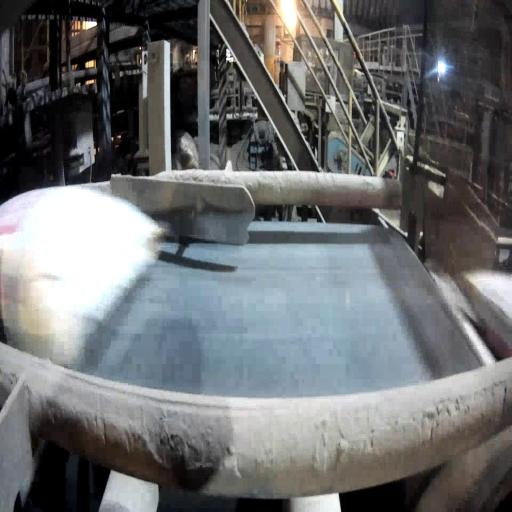c-belt-sack-count: (0, 186, 162, 365)
